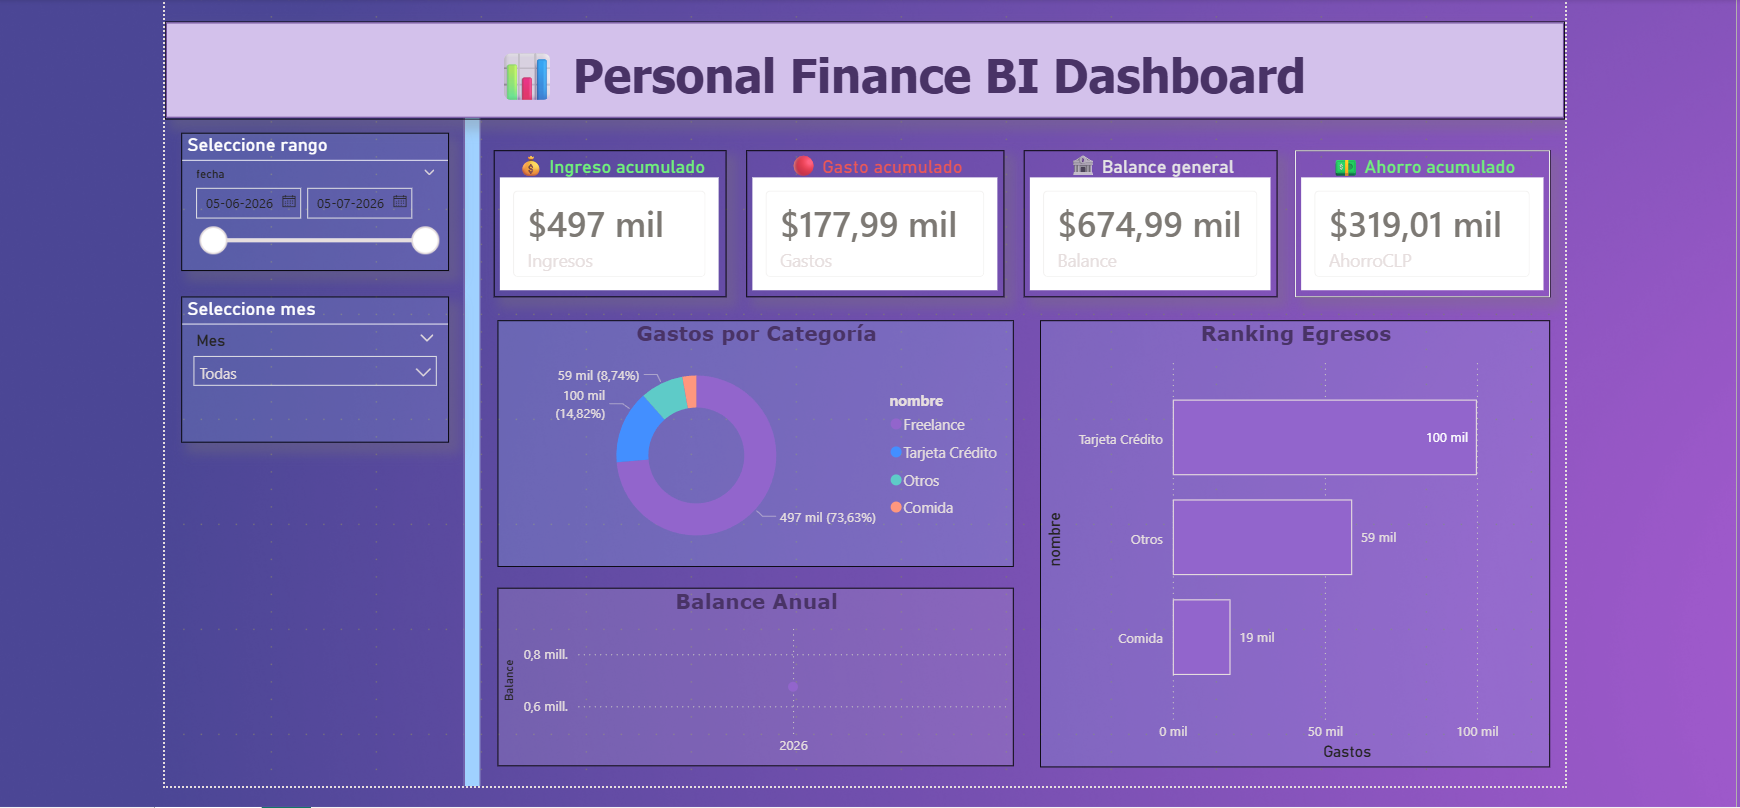

This screenshot's page, from the dashboard's own definition file:
{"tool":"powerbi","page":{"name":"Página 1","canvas":[1280,720],"ordinal":0},"visuals":[{"type":"cardVisual","title":"💰 Ingreso acumulado","fields":{"Data":["movimientos.Ingresos"]},"box":[300.8,138.2,212.8,134.5],"z":0},{"type":"cardVisual","title":"🏦 Balance general","fields":{"Data":["movimientos.Balance","select","select1","select2"]},"box":[785.6,137.8,232.2,134.4],"z":1000},{"type":"cardVisual","title":"🔴 Gasto acumulado","fields":{"Data":["movimientos.Gastos"]},"box":[531.9,138.2,236,134.5],"z":2000},{"type":"shape","box":[273.5,39.5,15.5,681],"z":4000},{"type":"shape","box":[0,20.8,1280.3,89.3],"z":5000},{"type":"textbox","box":[245.8,34.2,853.5,67.3],"z":6000},{"type":"lineChart","title":"Balance Anual","fields":{"Y":["movimientos.Balance"],"Category":["movimientos.fecha.Variación.Jerarquía de fechas.Año","movimientos.fecha.Variación.Jerarquía de fechas.Mes"]},"box":[304.6,538.6,472.4,163.6],"z":7000},{"type":"donutChart","title":"Gastos por Categoría","fields":{"Category":["categorias.nombre"],"Y":["movimientos.Total"]},"box":[304.6,293.3,472.4,225.6],"z":8000},{"type":"clusteredBarChart","title":"Ranking Egresos","fields":{"Y":["movimientos.Gastos"],"Category":["categorias.nombre"]},"box":[799.5,293.3,466.7,408.9],"z":9000},{"type":"slicer","title":"Seleccione rango","fields":{"Values":["movimientos.fecha"]},"box":[14.5,122.5,244.9,126.4],"z":10000},{"type":"slicer","title":"Seleccione mes","fields":{"Values":["movimientos.fecha.Variación.Jerarquía de fechas.Mes"]},"box":[14.4,272.2,244.4,133.3],"z":11000},{"type":"cardVisual","title":"💵 Ahorro acumulado","fields":{"Data":["movimientos.AhorroCLP"]},"box":[1033.3,138.2,233.6,134.5],"z":12001}]}

Visuals, with their boxes in screenshot pixels (x1, y1, x2, y2):
"💰 Ingreso acumulado" cardVisual: bbox(491, 144, 726, 292)
"🏦 Balance general" cardVisual: bbox(1026, 143, 1283, 292)
"🔴 Gasto acumulado" cardVisual: bbox(746, 144, 1007, 292)
shape: bbox(461, 35, 478, 787)
shape: bbox(159, 14, 1573, 113)
textbox: bbox(430, 29, 1373, 103)
"Balance Anual" lineChart: bbox(495, 586, 1017, 767)
"Gastos por Categoría" donutChart: bbox(495, 315, 1017, 564)
"Ranking Egresos" clusteredBarChart: bbox(1042, 315, 1557, 767)
"Seleccione rango" slicer: bbox(175, 126, 445, 266)
"Seleccione mes" slicer: bbox(174, 292, 444, 439)
"💵 Ahorro acumulado" cardVisual: bbox(1300, 144, 1558, 292)
